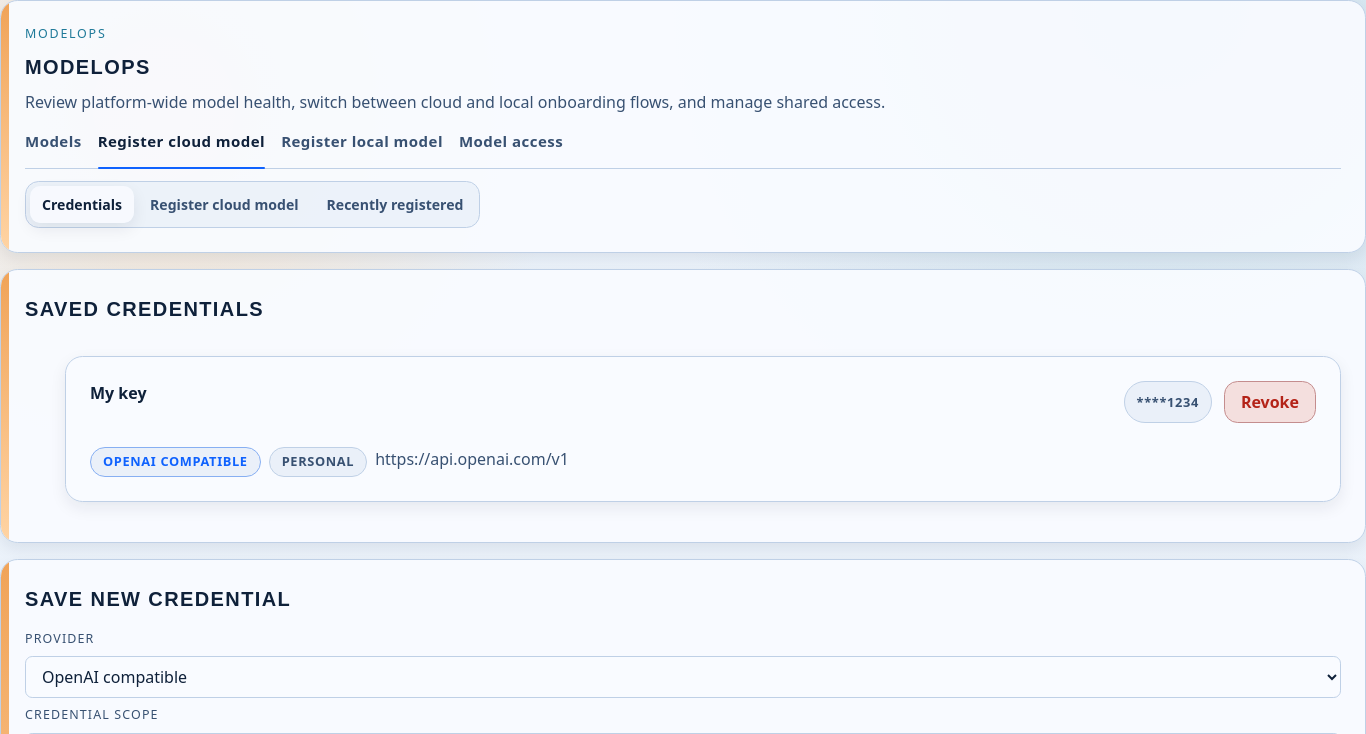
CloudModelRegisterPage › revokes a saved credential after confirmation
Click the button "Revoke". click: {"x": 1270, "y": 402}
box: 1224,381 -> 1316,423
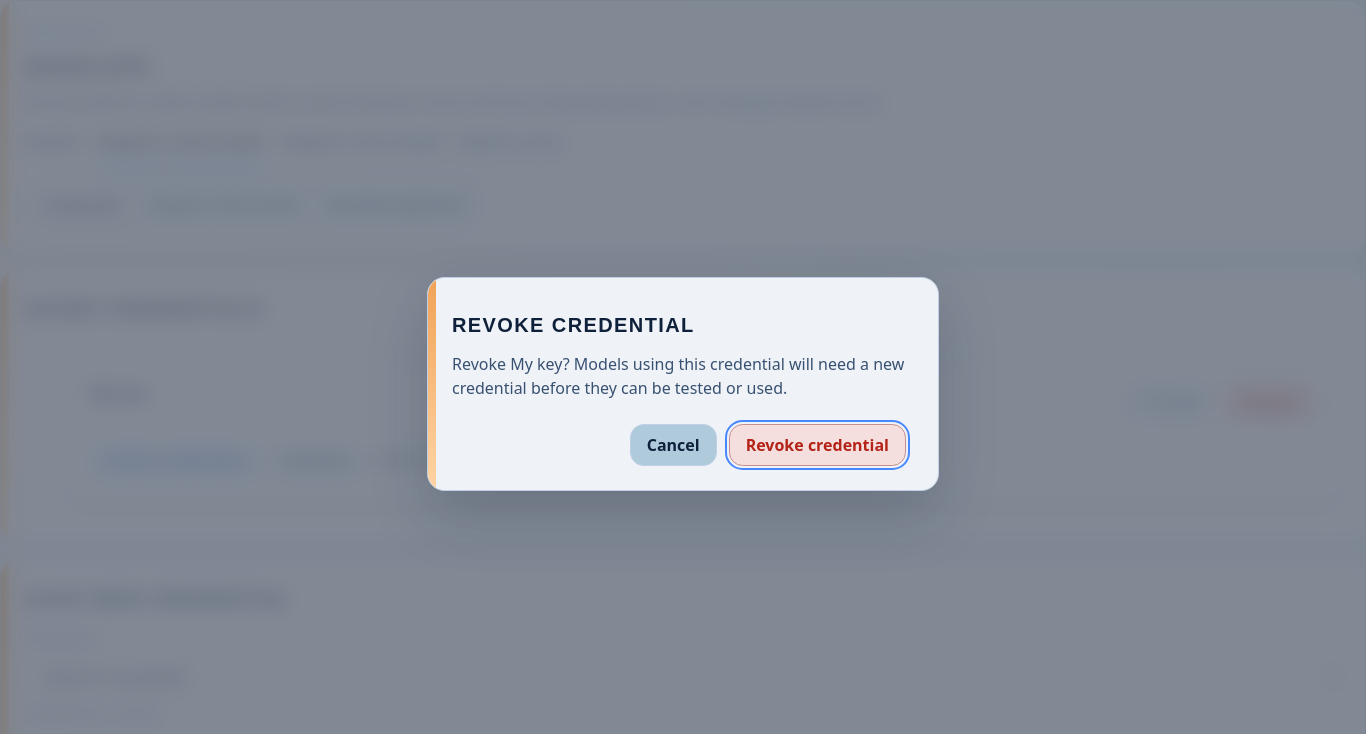
Click the button "Revoke credential". click: {"x": 817, "y": 445}
box: 729,424 -> 906,466
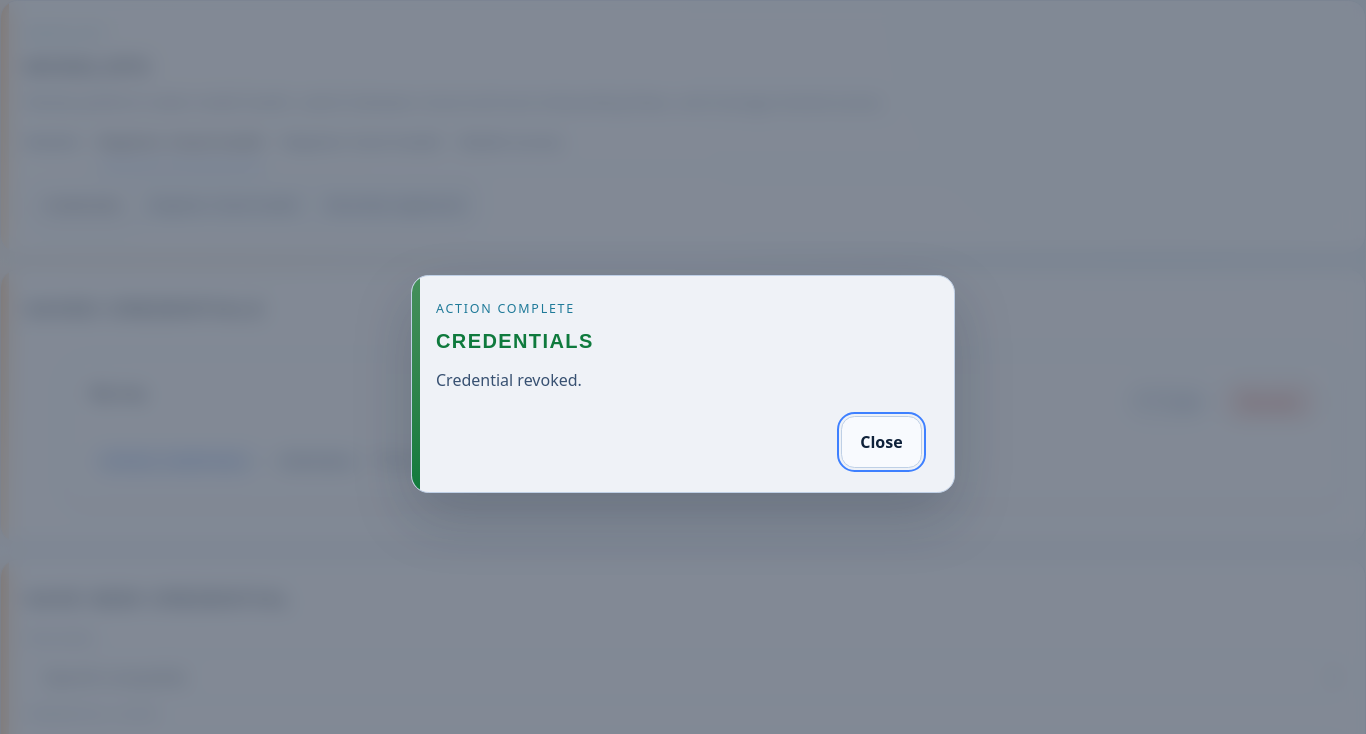
Expected: the text "Credential revoked." is shown once, 436,369 -> 582,391
Expected: the dialog "Credentials" is shown, 411,274 -> 955,493
